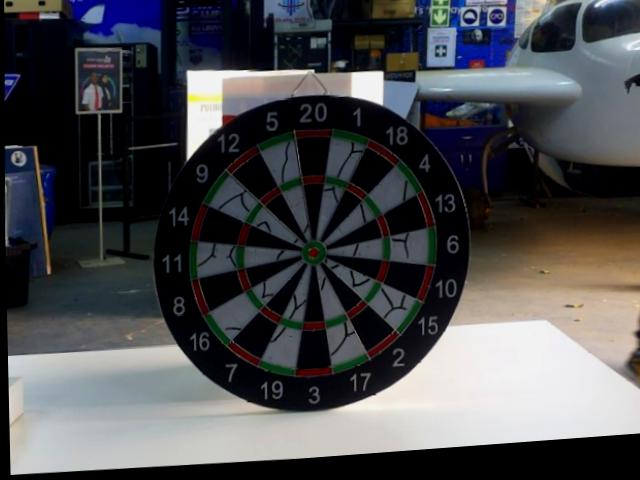single_20: (298, 137, 329, 174), (306, 185, 322, 233)
single_5: (289, 124, 309, 232), (281, 137, 298, 186)
